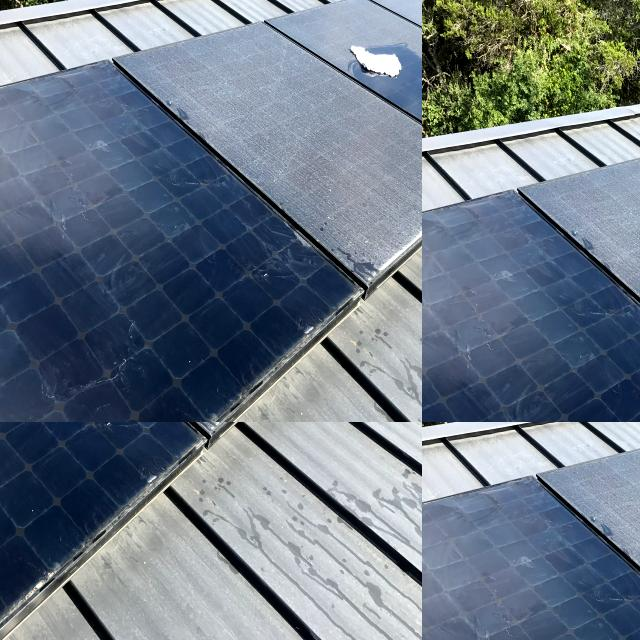bird: (4, 0, 56, 27), (0, 422, 15, 450), (0, 422, 12, 444), (0, 422, 14, 438), (0, 422, 9, 437), (0, 422, 10, 435)
dust: (422, 487, 529, 640), (5, 56, 100, 154), (125, 75, 234, 152), (546, 564, 640, 640), (248, 0, 283, 165), (151, 0, 238, 63), (48, 0, 135, 63), (164, 0, 251, 38), (0, 62, 20, 173), (0, 0, 39, 41), (49, 0, 145, 15)
shadow: (422, 0, 506, 42)
